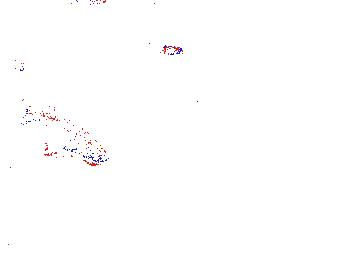red belly glassfish: (137, 38, 184, 57)
redtail glassfish: (20, 97, 111, 166), (1, 50, 30, 75)
siberian prawn: (1, 241, 95, 260)
